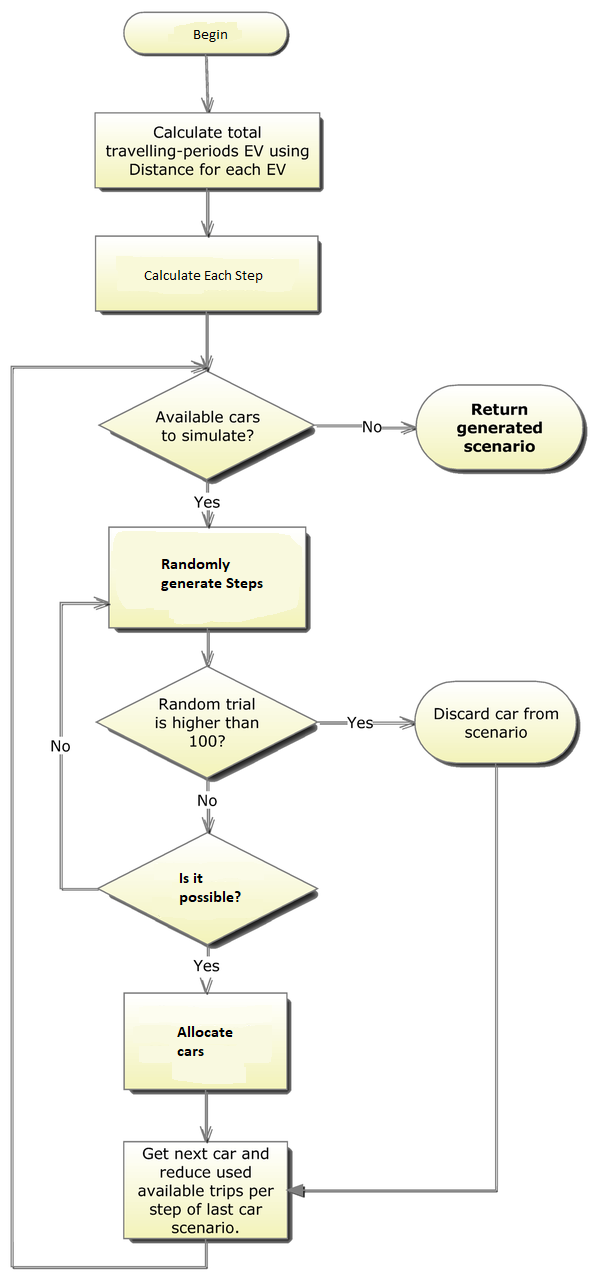arrow: (7, 363, 219, 1269), (286, 759, 505, 1198), (52, 594, 113, 898), (311, 715, 417, 735), (197, 306, 221, 378), (193, 1088, 219, 1153), (309, 421, 421, 435), (197, 45, 219, 115), (195, 182, 221, 237), (197, 774, 219, 839), (195, 943, 221, 994), (199, 625, 219, 674)
decision: (97, 829, 321, 951), (91, 665, 325, 780), (93, 368, 323, 480)
process: (103, 521, 313, 633), (89, 229, 325, 319), (89, 108, 329, 196), (119, 988, 295, 1098), (119, 1137, 293, 1247)
terminator: (409, 380, 593, 476), (409, 678, 580, 770), (119, 6, 291, 61)
text: (131, 1143, 274, 1235), (101, 123, 313, 176), (152, 692, 262, 751), (452, 398, 548, 455), (429, 704, 562, 743), (152, 404, 268, 447), (158, 555, 268, 596), (176, 866, 244, 912), (170, 1021, 236, 1063), (138, 265, 268, 286), (187, 951, 238, 974), (187, 25, 233, 45), (189, 490, 229, 512), (340, 710, 378, 733), (44, 733, 74, 761), (193, 782, 221, 812), (354, 415, 391, 437)
